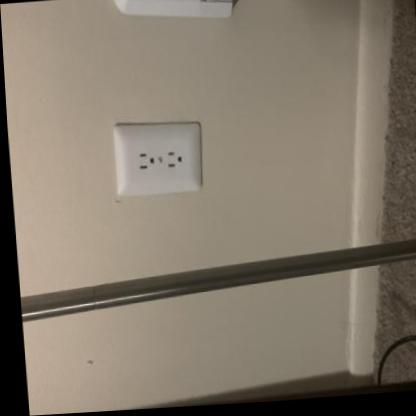OUTLET: (110, 117, 205, 197)
